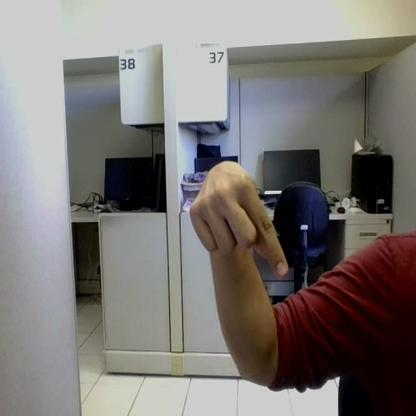Q: (191, 163, 289, 276)
